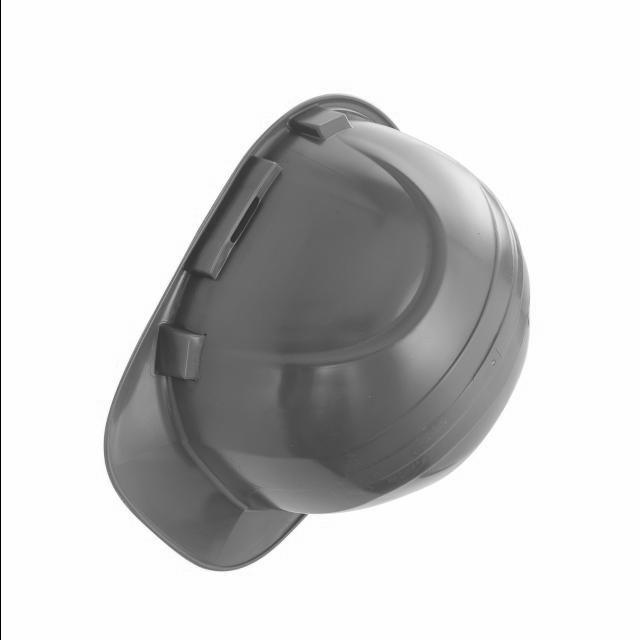safety_helmet: (100, 93, 528, 575)
